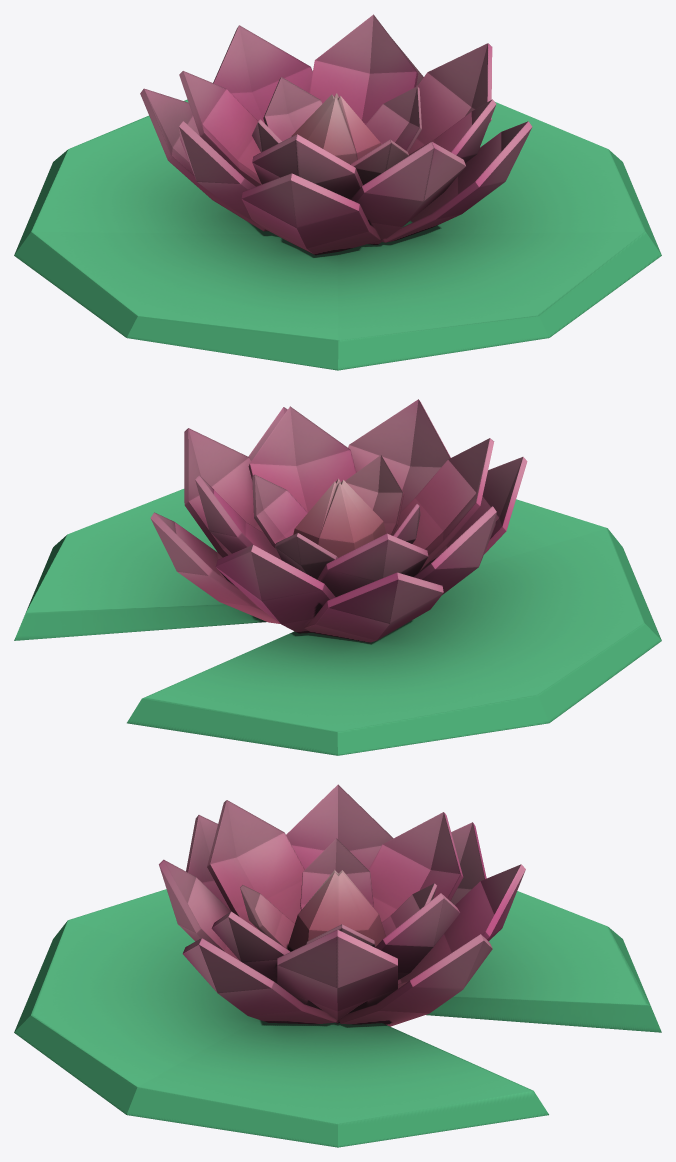
The model's file is LilyPad.glb.
The picture shows the model from 3 angles, top to bottom: view 1: azimuth 30°, elevation 25°; view 2: azimuth 150°, elevation 25°; view 3: azimuth 270°, elevation 25°; orthographic projection.
Parts seen in each view (by area): view 1: node-0; view 2: node-0; view 3: node-0.
Boxes of the visible parts, left/top/right/bottom form: node-0: left=14, top=14, right=661, bottom=370; node-0: left=14, top=399, right=661, bottom=755; node-0: left=14, top=784, right=661, bottom=1147.
Size of the model in its own units: 10.71 by 2.99 by 10.88.
1 material, 1 textured.
